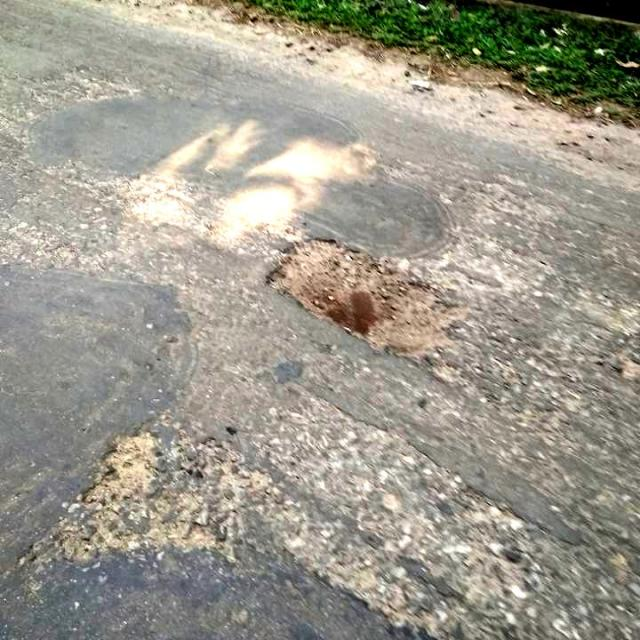pothole: (262, 234, 470, 364)
